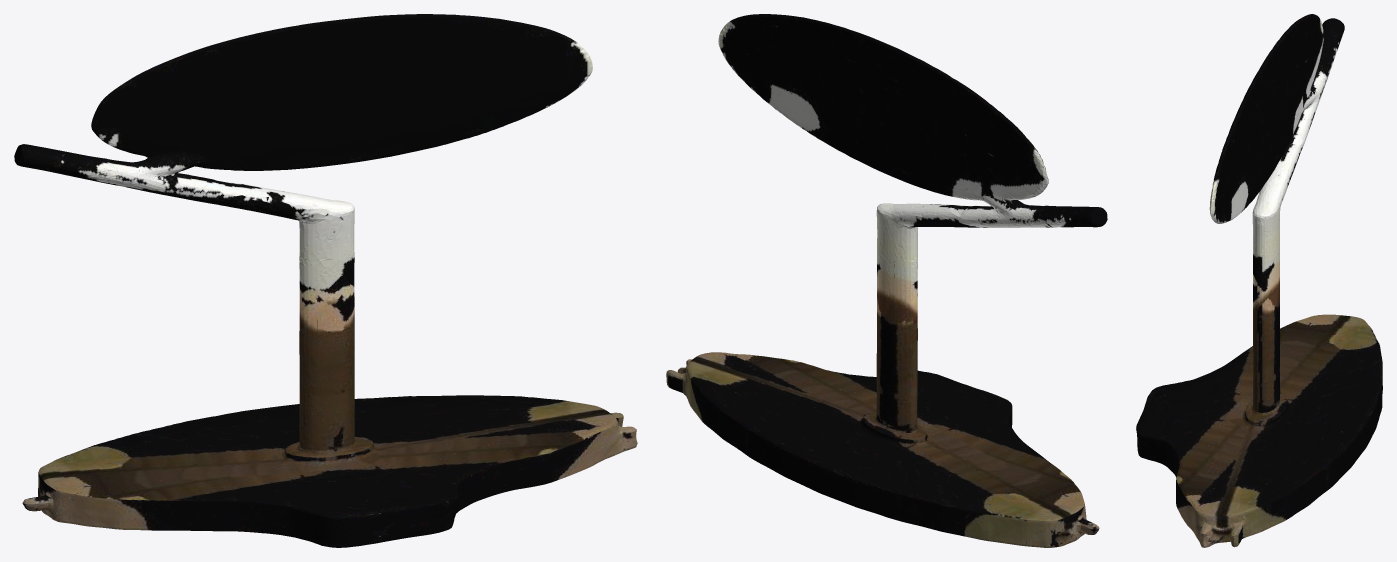
Rendered from bedroom-1-02-lamp.glb.
3 views of the same model, side by side, from view 1: azimuth 30°, elevation 25°; view 2: azimuth 150°, elevation 25°; view 3: azimuth 270°, elevation 25° (orthographic). The views are drawn at different scales.
Parts seen in each view (by area): view 1: geometry_0; view 2: geometry_0; view 3: geometry_0.
Boxes of the visible parts, left/top/right/bottom form: geometry_0: left=14, top=14, right=637, bottom=547; geometry_0: left=666, top=14, right=1107, bottom=547; geometry_0: left=1136, top=14, right=1382, bottom=547.
Size of the model in its own units: 0.4882 by 0.3935 by 0.2285.
Materials: 1 (1 with a texture image).
